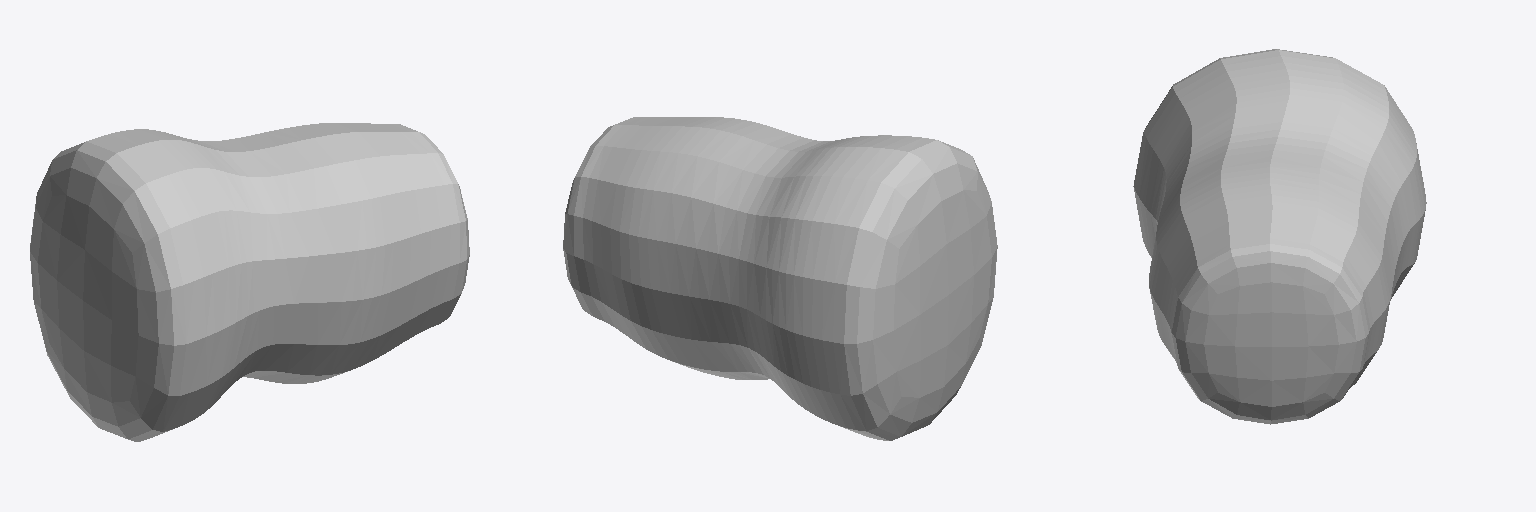
Rendered from m_luarm.obj.
3 renders of one model, left to right at view 1: azimuth 30°, elevation 25°; view 2: azimuth 150°, elevation 25°; view 3: azimuth 270°, elevation 25°, orthographic.
Visible parts, largest first — view 1: pCube5; view 2: pCube5; view 3: pCube5.
Boxes of the visible parts, x1,y1,x2,y2 form: pCube5: [30, 123, 469, 441]; pCube5: [563, 117, 997, 440]; pCube5: [1133, 49, 1426, 424].
Bounding box in the file's own units: 0.866 × 0.6451 × 0.6217.